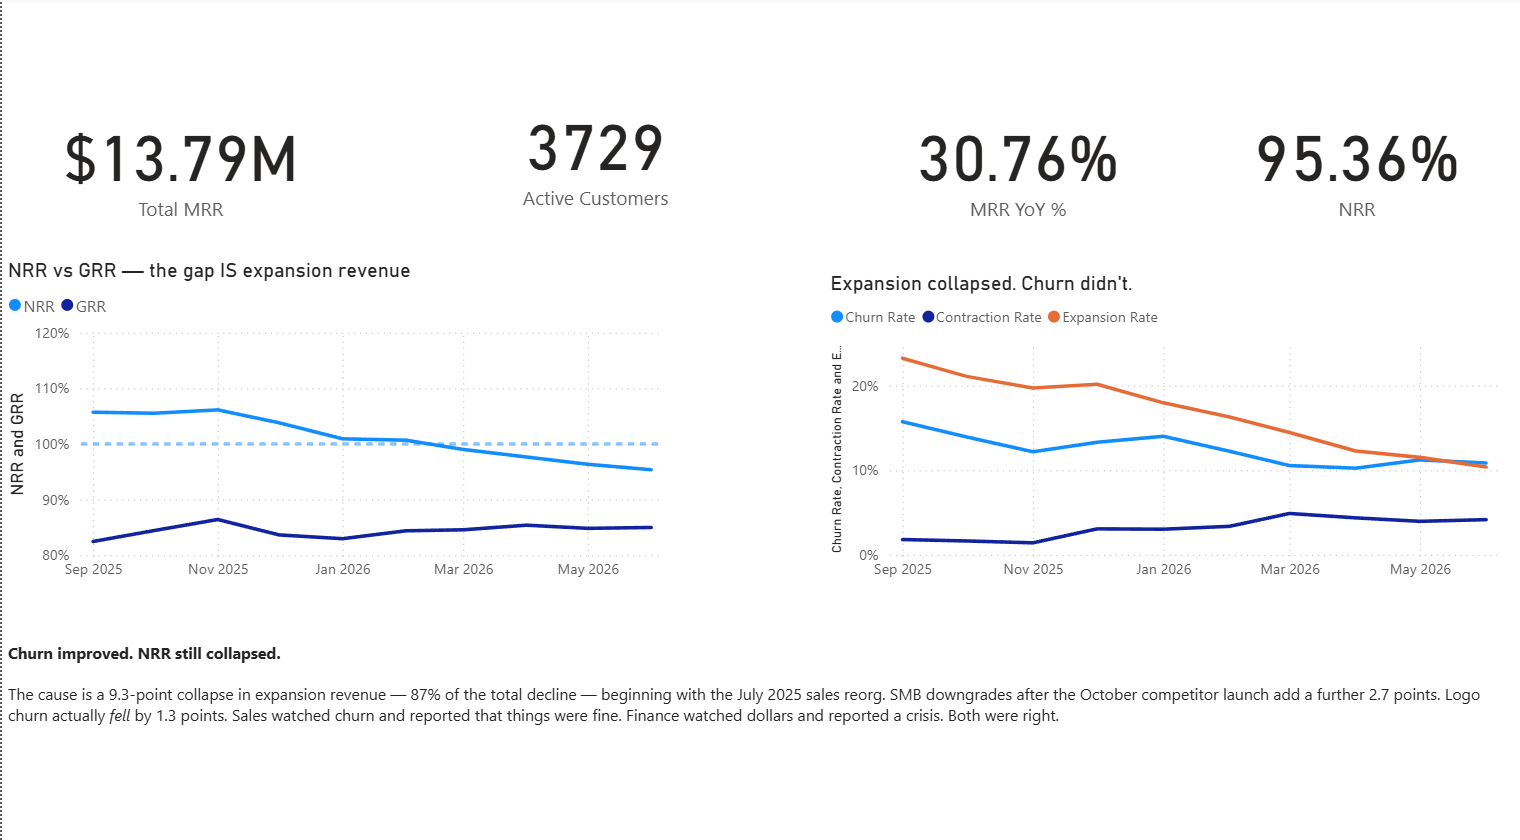

The dashboard page shown, as its layout file describes it:
{"tool":"powerbi","page":{"name":"The Answer","canvas":[1280,720],"ordinal":0},"visuals":[{"type":"card","fields":{"Values":["fact_mrr.Total MRR"]},"box":[10,0,280,280],"z":0},{"type":"card","fields":{"Values":["fact_mrr.NRR"]},"box":[1000.3,0,279.9,279.9],"z":1000},{"type":"card","fields":{"Values":["fact_mrr.Active Customers"]},"box":[359.5,54.9,279.9,150.9],"z":2000},{"type":"card","fields":{"Values":["fact_mrr.MRR YoY %"]},"box":[714.9,0,279.9,279.9],"z":3000},{"type":"lineChart","title":"NRR vs GRR — the gap IS expansion revenue","fields":{"Y":["fact_mrr.NRR","fact_mrr.GRR"],"Category":["dim_date.year_month.Variation.Date Hierarchy.Year","dim_date.year_month.Variation.Date Hierarchy.Quarter","dim_date.year_month.Variation.Date Hierarchy.Month","dim_date.year_month.Variation.Date Hierarchy.Day"]},"box":[0,219.7,577.2,279.7],"z":4000},{"type":"lineChart","title":"Expansion collapsed. Churn didn''t.","fields":{"Category":["dim_date.year_month.Variation.Date Hierarchy.Year","dim_date.year_month.Variation.Date Hierarchy.Quarter","dim_date.year_month.Variation.Date Hierarchy.Month","dim_date.year_month.Variation.Date Hierarchy.Day"],"Y":["fact_mrr.Churn Rate","fact_mrr.Contraction Rate","fact_mrr.Expansion Rate"]},"box":[691.8,230.3,587.7,269.2],"z":4001},{"type":"textbox","box":[0,537.3,1280.6,81],"z":4002}]}

Visuals, with their boxes in screenshot pixels (x1, y1, x2, y2), scaled from the page's 1280x720 canvas onto the 1520x840 screenshot:
card - fact_mrr.Total MRR: x1=12, y1=0, x2=344, y2=327
card - fact_mrr.NRR: x1=1188, y1=0, x2=1519, y2=327
card - fact_mrr.Active Customers: x1=427, y1=64, x2=759, y2=240
card - fact_mrr.MRR YoY %: x1=849, y1=0, x2=1181, y2=327
"NRR vs GRR — the gap IS expansion revenue" lineChart: x1=0, y1=256, x2=685, y2=583
"Expansion collapsed. Churn didn''t." lineChart: x1=822, y1=269, x2=1519, y2=583
textbox: x1=0, y1=627, x2=1519, y2=721
